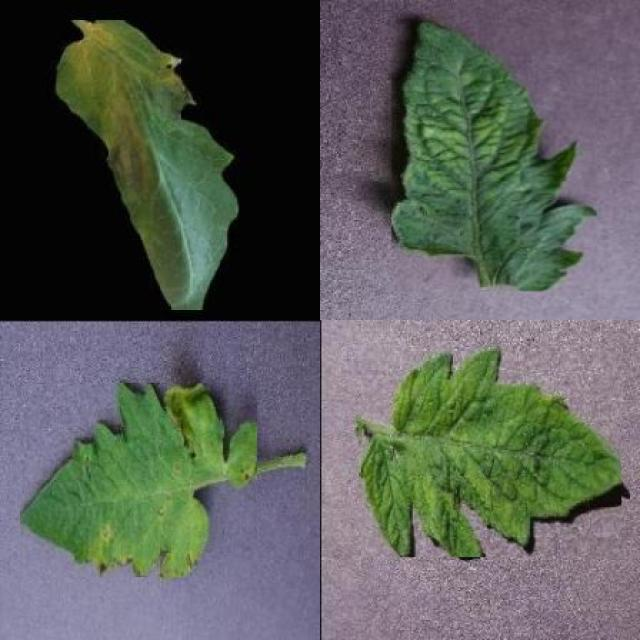Late Blight: (58, 19, 241, 310)
Mosaic Virus: (392, 18, 598, 292), (358, 346, 622, 557)
Septoria: (20, 383, 257, 578)
